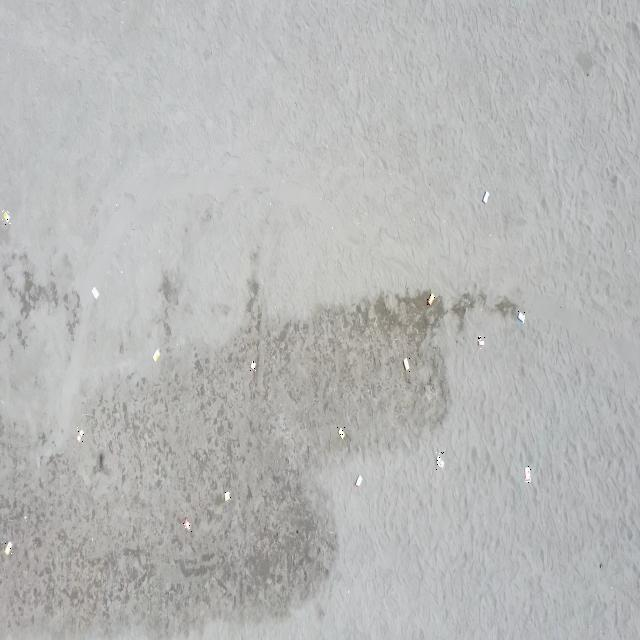Garbage: (435, 451, 444, 468), (181, 517, 191, 531), (4, 540, 12, 555), (524, 466, 531, 482), (76, 427, 83, 442), (2, 209, 9, 224), (427, 292, 435, 304), (91, 287, 99, 299), (152, 348, 160, 360), (517, 310, 524, 323), (249, 360, 256, 371), (477, 335, 484, 346), (403, 356, 408, 371), (482, 191, 488, 203), (337, 427, 344, 437), (355, 476, 362, 486), (223, 491, 230, 500)
